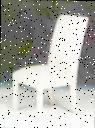Silla: (10, 15, 89, 121)
